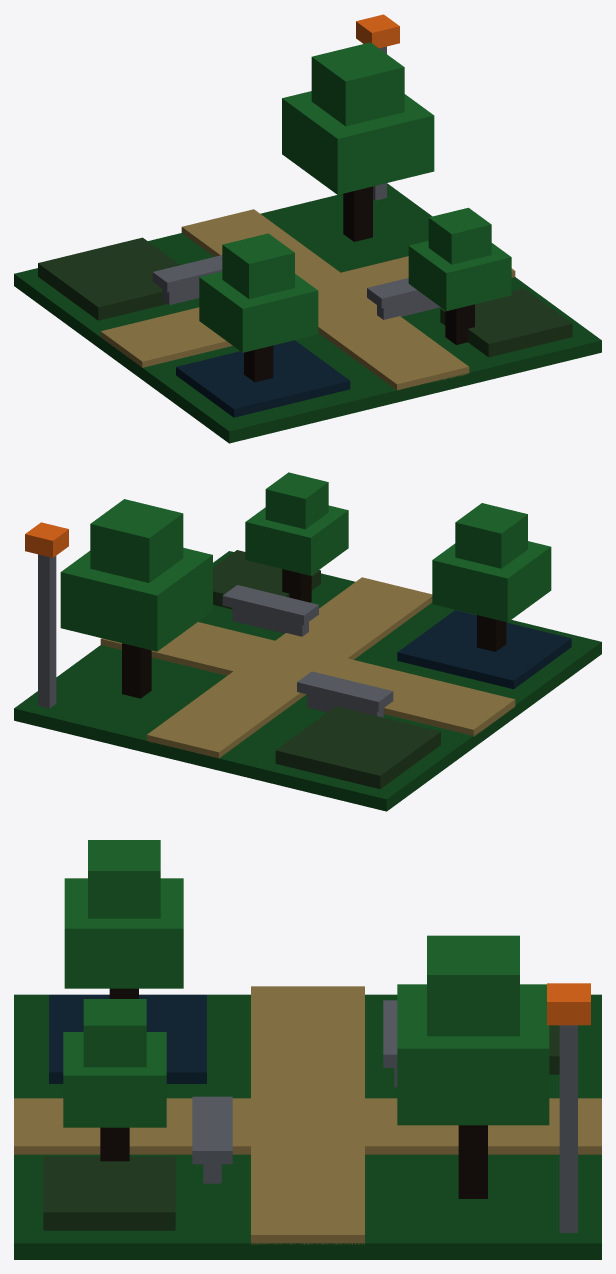
File: park.obj
The picture shows the model from 3 angles, top to bottom: view 1: azimuth 30°, elevation 25°; view 2: azimuth 150°, elevation 25°; view 3: azimuth 270°, elevation 25°; orthographic projection. The views are drawn at different scales.
Parts seen in each view (by area): view 1: tree-canopies, lawn, paths, planting-beds, pond, benches, tree-trunks, lamp-head; view 2: tree-canopies, lawn, paths, planting-beds, pond, benches, tree-trunks, lamp-post, lamp-head; view 3: tree-canopies, lawn, paths, planting-beds, pond, benches, lamp-post, tree-trunks, lamp-head.
Boxes of the visible parts, x1,y1,x2,y2 form: tree-canopies: [199, 42, 511, 352]; lawn: [14, 183, 601, 443]; paths: [100, 209, 515, 390]; planting-beds: [38, 237, 572, 357]; pond: [176, 340, 350, 417]; benches: [152, 255, 440, 319]; tree-trunks: [244, 186, 474, 382]; lamp-head: [356, 14, 399, 48]; tree-canopies: [60, 472, 551, 651]; lawn: [14, 551, 601, 811]; paths: [100, 577, 515, 758]; planting-beds: [213, 550, 440, 789]; pond: [397, 610, 571, 689]; benches: [222, 585, 393, 717]; tree-trunks: [122, 569, 506, 698]; lamp-post: [38, 554, 56, 708]; lamp-head: [25, 522, 68, 557]; tree-canopies: [63, 840, 549, 1127]; lawn: [14, 994, 601, 1259]; paths: [14, 986, 601, 1244]; planting-beds: [43, 1025, 559, 1230]; pond: [49, 994, 206, 1083]; benches: [192, 1000, 397, 1183]; lamp-post: [559, 1025, 577, 1232]; tree-trunks: [100, 988, 487, 1198]; lamp-head: [547, 983, 590, 1025].
Size of the model in its own units: 3.2 by 1.53 by 3.2.
